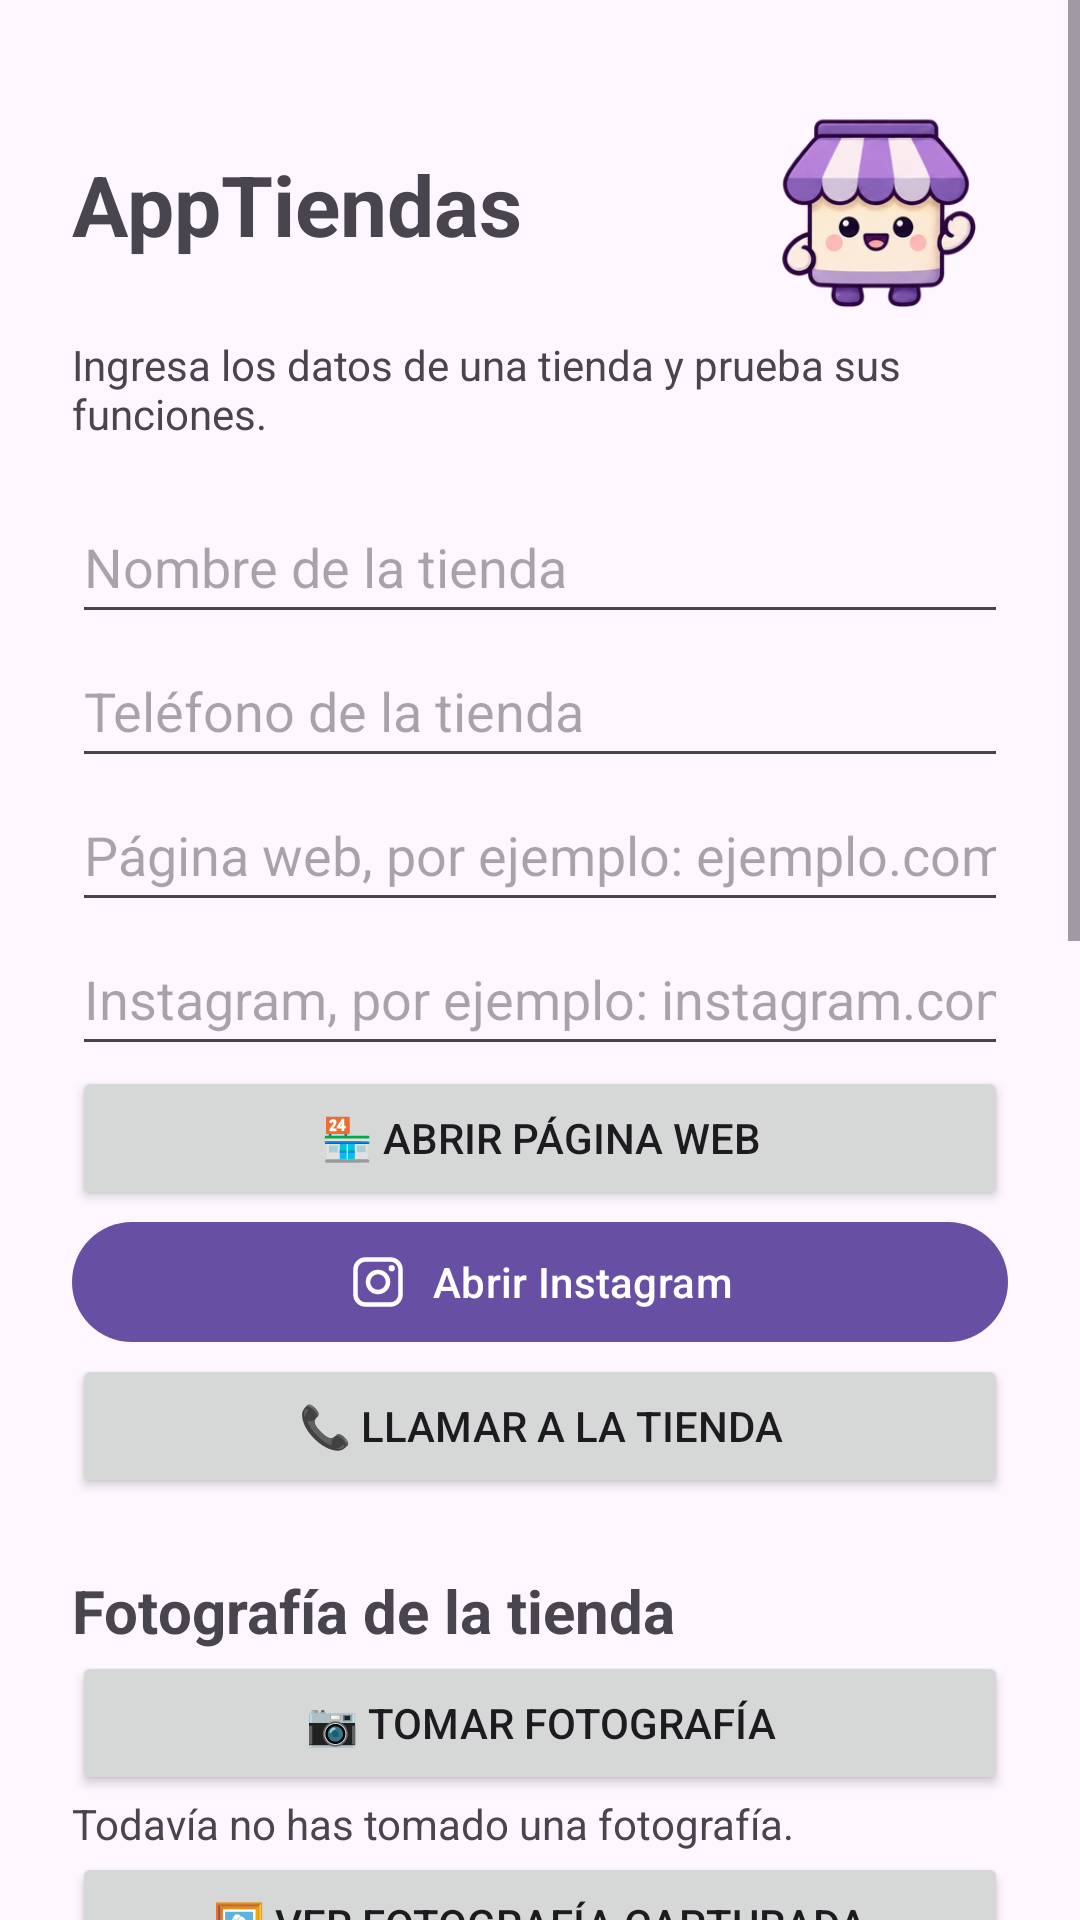

Where to tap for icons on this 1080 x 1920 app screen, as point (x, y):
tiendita quieta: point (879, 213)
